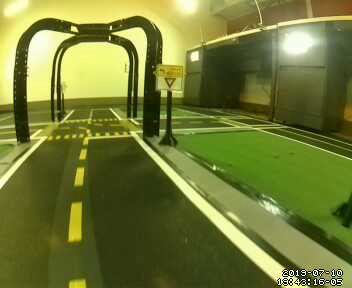Turn Yield: (156, 63, 185, 92)
